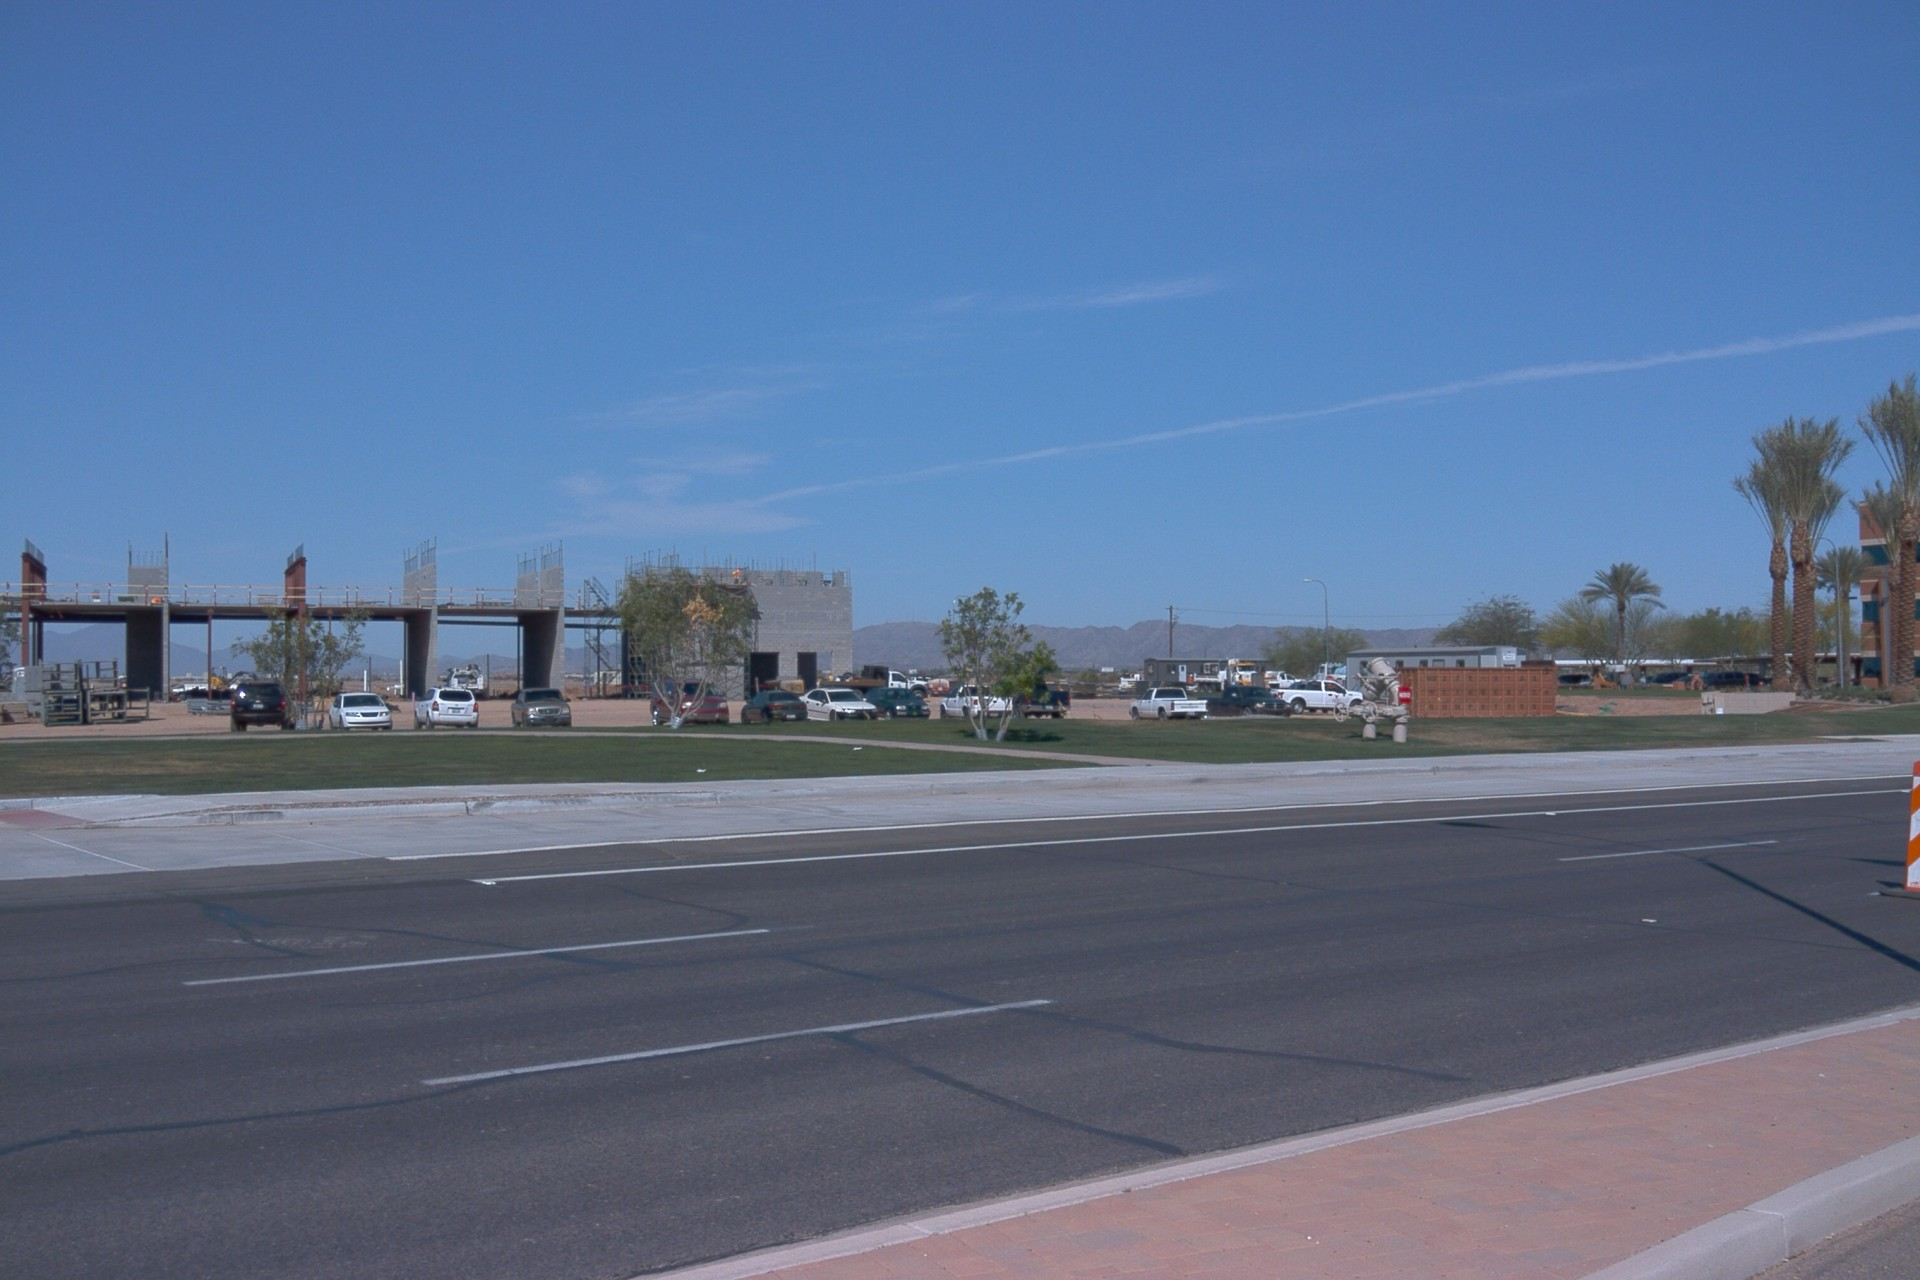TYPE_PEDESTRIAN: (1639, 672, 1650, 686), (1186, 674, 1194, 686)
TYPE_VEHICLE: (815, 665, 927, 706), (646, 673, 726, 724), (1263, 679, 1364, 718), (995, 674, 1071, 723), (231, 681, 300, 734), (1192, 681, 1294, 716), (1133, 677, 1213, 720), (416, 683, 483, 734), (801, 683, 881, 724), (1190, 659, 1269, 700), (940, 681, 1017, 723), (509, 682, 575, 730), (740, 685, 807, 728), (325, 691, 390, 734), (866, 683, 933, 724), (204, 667, 261, 700), (443, 665, 487, 699), (1699, 671, 1756, 693), (1310, 664, 1350, 685), (1558, 673, 1600, 691), (922, 680, 956, 702), (1649, 675, 1696, 689), (908, 679, 928, 685)
